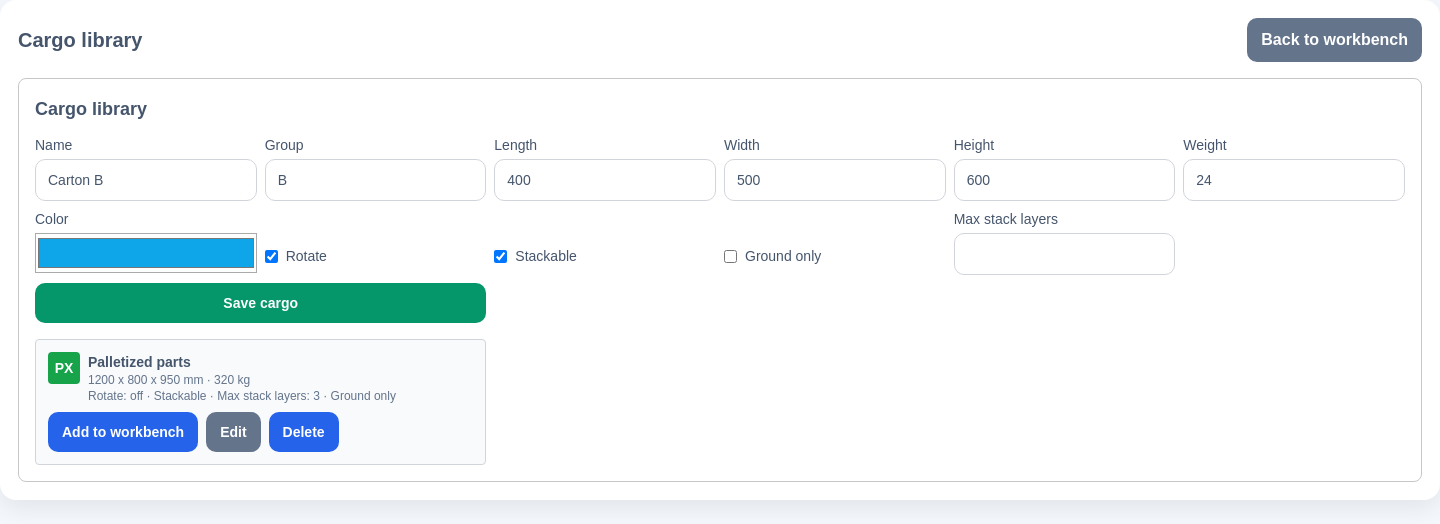
Test case: CargoLibraryPage › deletes a definition and exits edit mode only after deletion succeeds
Click the button with test id "cargo-library-edit-cargo-1" at (233, 432), box [206, 412, 261, 452]
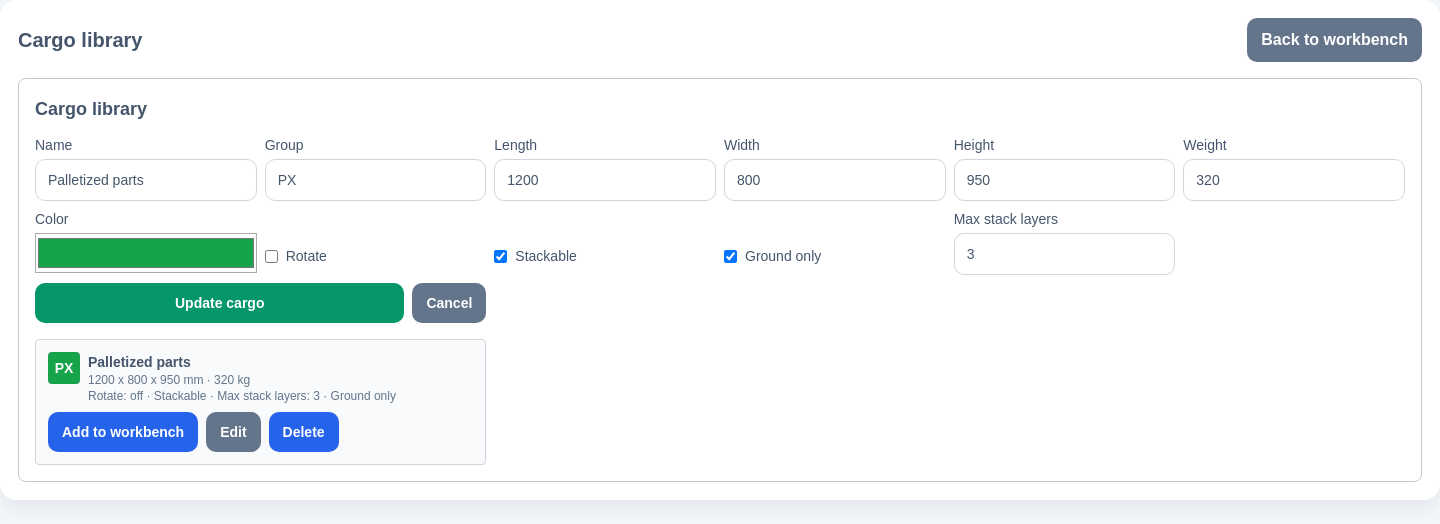
Replace the text in the field labelled "Name" with "Editing before delete" at (146, 180), box [35, 159, 257, 201]
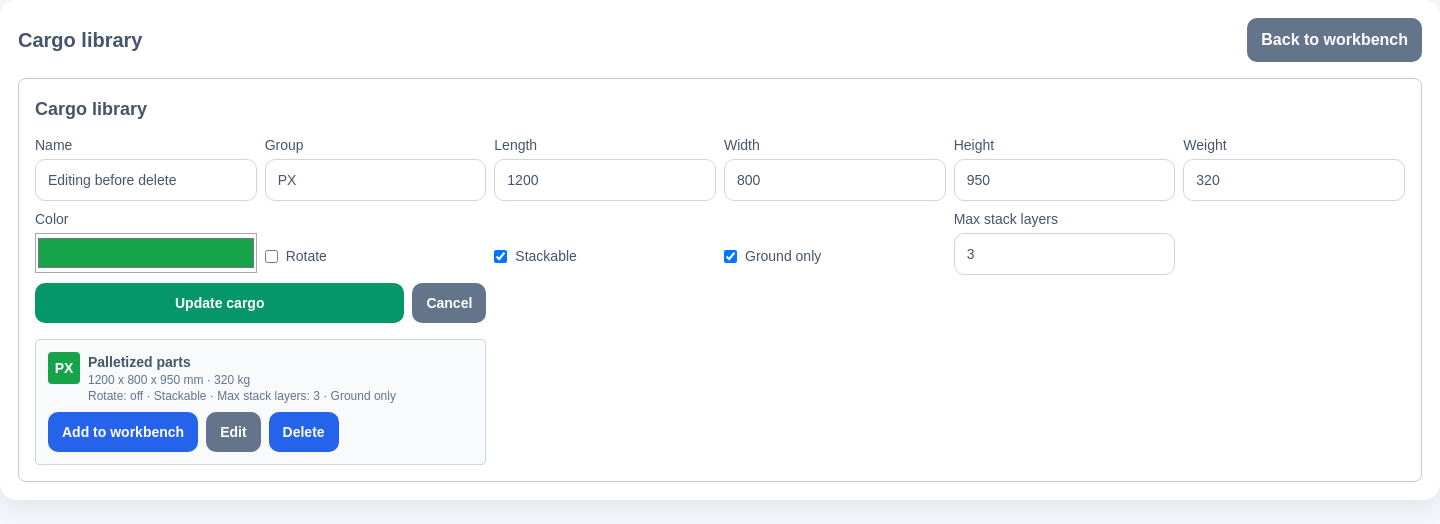
Click the button with test id "cargo-library-delete-cargo-1" at (304, 432), box [269, 412, 339, 452]
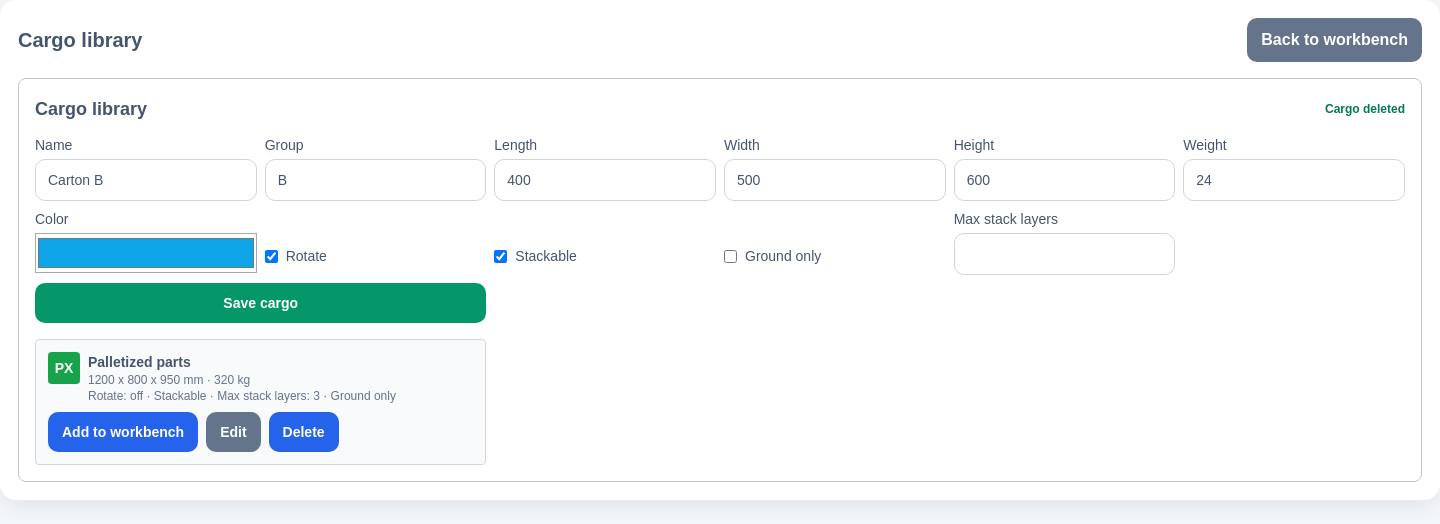
Now the text "Cargo deleted" is shown, box [1325, 101, 1405, 117]
Now the field labelled "Name" holds "Carton B", box [35, 159, 257, 201]
Now the button "Save cargo" is shown, box [35, 283, 486, 323]
